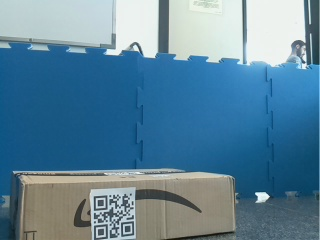caja: (12, 166, 237, 238)
